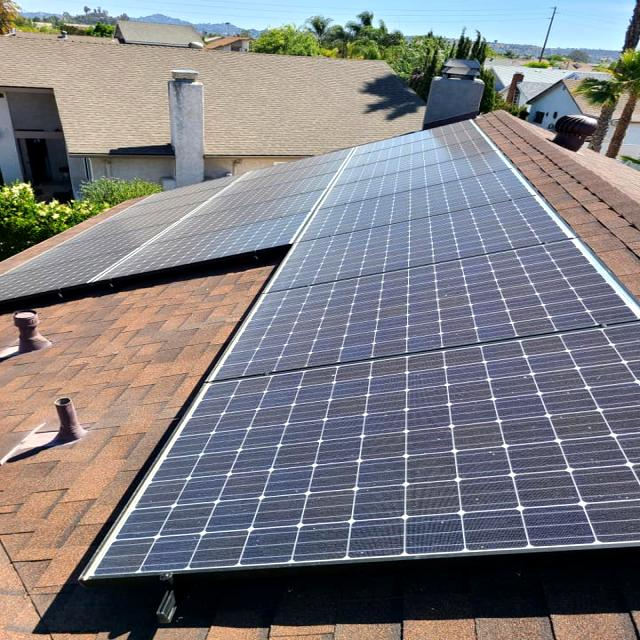dust: (298, 242, 573, 368), (453, 355, 637, 535), (288, 372, 432, 538), (174, 422, 276, 562)
